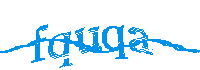a: (127, 24, 152, 56)
f: (31, 24, 48, 63)
q: (102, 23, 128, 62), (48, 30, 74, 68)
u: (75, 24, 100, 56)
